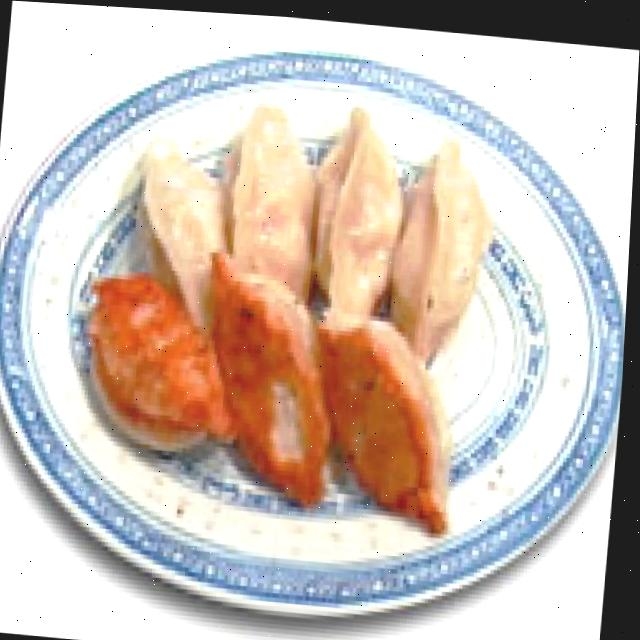带馅早点: (72, 93, 522, 535)
